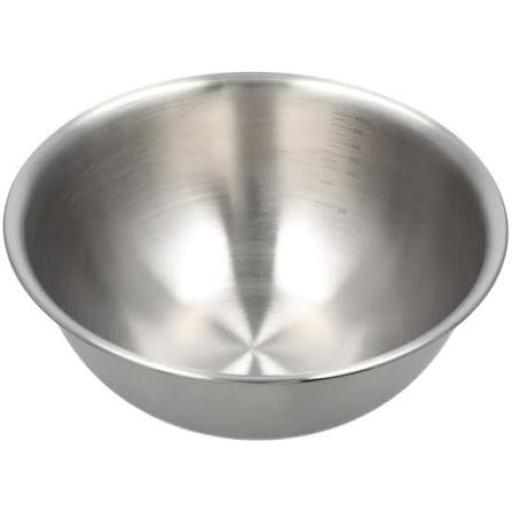Bowl: (5, 72, 506, 439)
